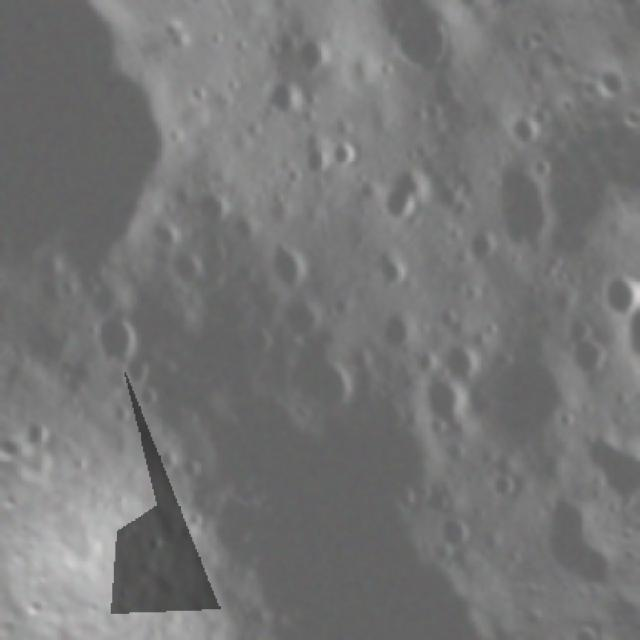crater: (0, 52, 225, 336), (464, 147, 571, 261), (561, 404, 640, 518), (375, 0, 473, 89), (76, 293, 166, 387), (279, 337, 366, 426), (360, 155, 442, 242), (407, 358, 481, 436), (275, 23, 350, 99), (555, 324, 627, 394), (366, 297, 434, 361), (431, 322, 495, 386), (268, 284, 330, 348), (252, 230, 312, 295), (584, 254, 640, 323), (185, 174, 248, 235), (254, 67, 317, 127), (492, 97, 552, 158), (606, 278, 640, 384), (425, 502, 481, 560), (159, 239, 215, 296), (473, 458, 529, 512), (363, 238, 417, 294), (408, 473, 461, 527), (138, 209, 190, 260), (454, 217, 503, 269), (112, 343, 162, 391), (320, 124, 371, 171), (292, 136, 341, 184), (341, 330, 385, 378), (555, 304, 600, 348), (143, 438, 185, 479), (430, 0, 504, 22), (170, 447, 208, 482), (524, 148, 558, 186), (194, 623, 266, 640), (151, 634, 200, 640)
